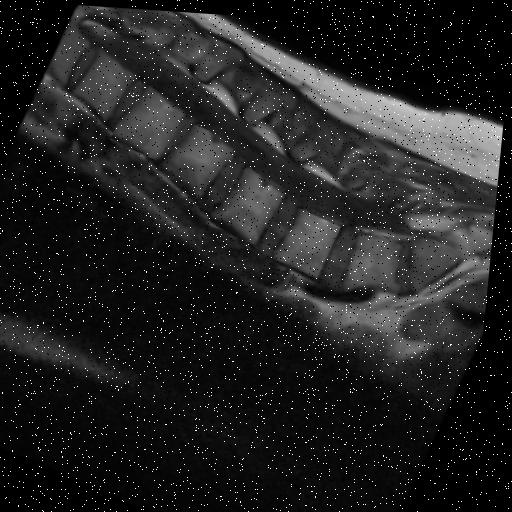L1: (116, 85, 186, 157)
L2: (166, 121, 236, 194)
L3: (216, 164, 288, 240)
L4: (279, 203, 345, 273)
L5: (350, 228, 407, 286)
S1: (417, 233, 466, 285)
